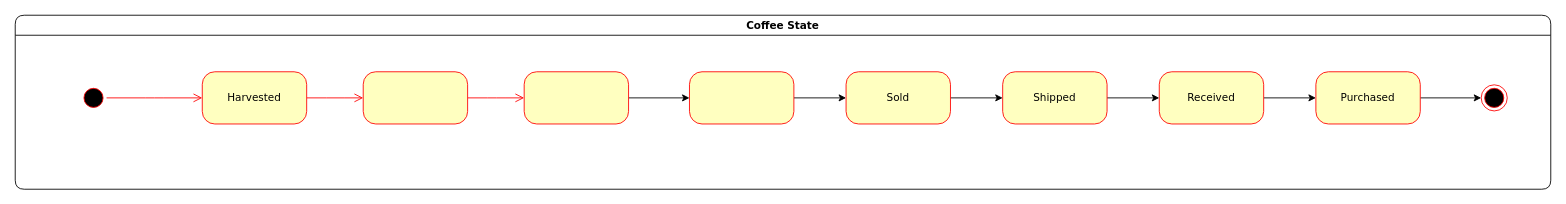
This 1566x204 diagram has some shape labels left out. The shapes that lost their labels are listed below. From the top down, each one's centre as x and y in pixels, then its label:
the point at 415,97: Processed
the point at 576,97: Packed
the point at 741,97: For Sale
